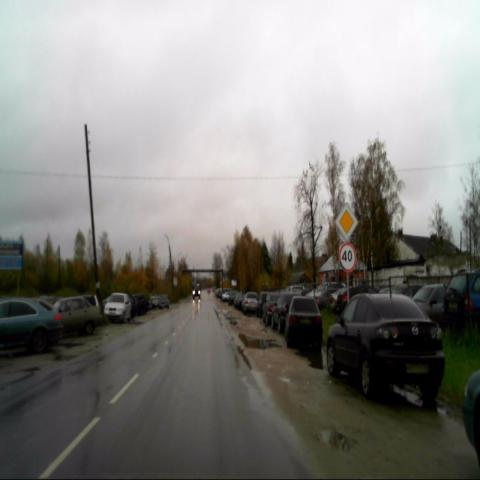2_1: (334, 202, 358, 241)
3_24: (338, 241, 358, 273)
